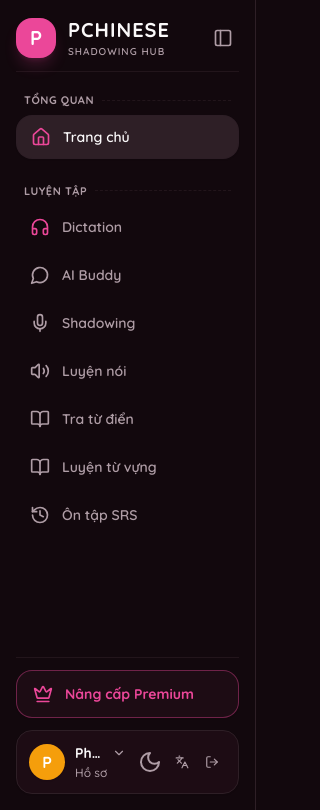
Test case: F01 sidebar › offers all ten semantic themes
Click the button with test id "theme-picker-trigger" at coordinates (150, 762), box [134,746,166,778]
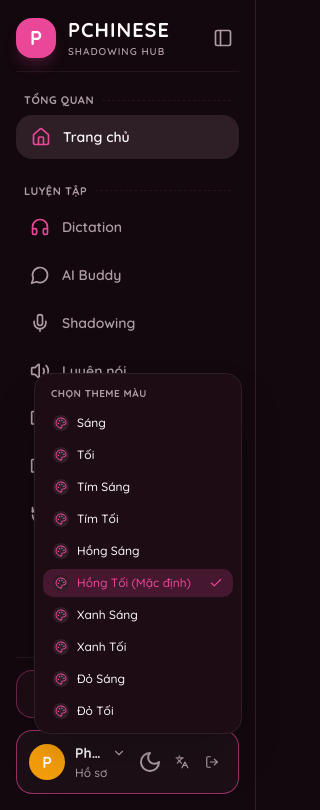
Now the button with test id "theme-option-light-blue" is shown, box [43,601,233,629]
Now the button with test id "theme-option-dark-red" is shown, box [43,697,233,725]
